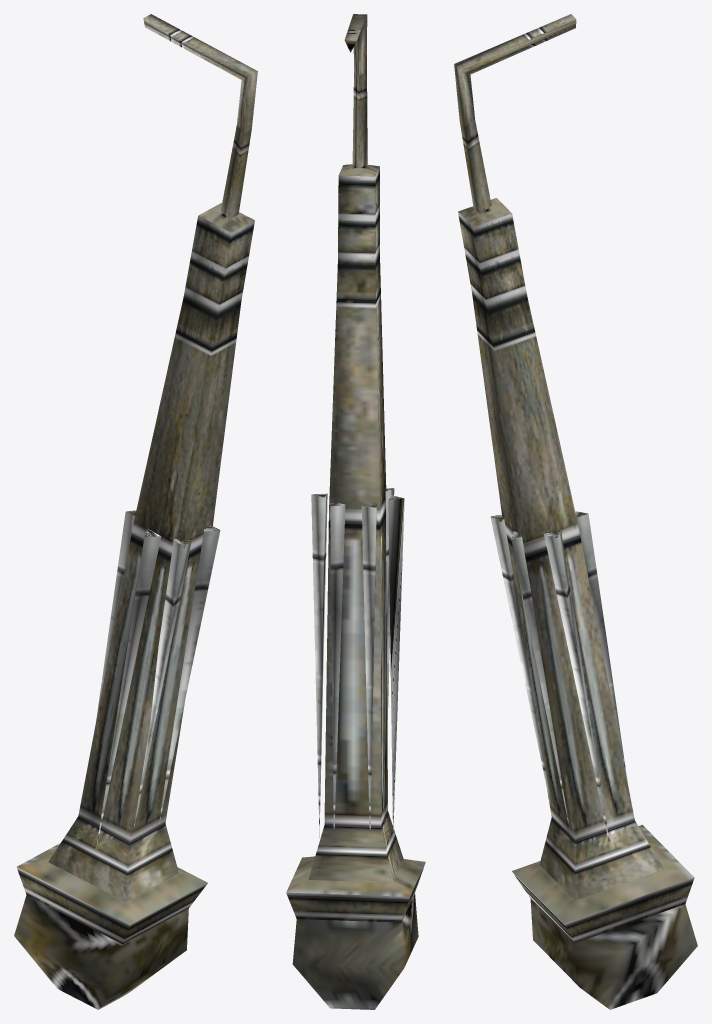
Rendered from eqp_music_traz_l2.fbx.
The picture shows the model from 3 angles, left to right: view 1: azimuth 30°, elevation 25°; view 2: azimuth 150°, elevation 25°; view 3: azimuth 270°, elevation 25°; orthographic projection. The views are drawn at different scales.
Parts seen in each view (by area): view 1: mesh_node; view 2: mesh_node; view 3: mesh_node.
Boxes of the visible parts, left/top/right/bottom form: mesh_node: left=14, top=14, right=257, bottom=1009; mesh_node: left=286, top=14, right=425, bottom=1009; mesh_node: left=454, top=14, right=697, bottom=1009.
Bounding box in the file's own units: 0.1133 × 0.6953 × 0.1545.
Materials: 1 (1 with a texture image).
